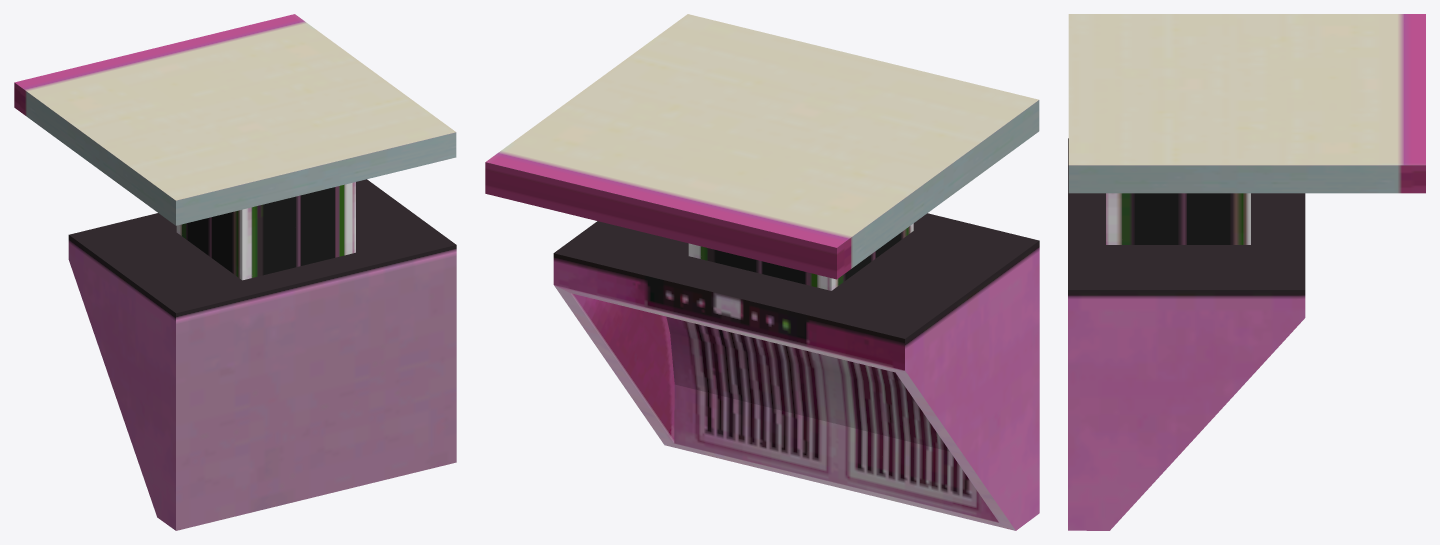
File: furni_0200523_01.FBX
3 renders of one model, left to right at view 1: azimuth 30°, elevation 25°; view 2: azimuth 150°, elevation 25°; view 3: azimuth 270°, elevation 25°, orthographic. The views are drawn at different scales.
Parts seen in each view (by area): view 1: furni_0200523_01; view 2: furni_0200523_01; view 3: furni_0200523_01.
Boxes of the visible parts, x1,y1,x2,y2 form: furni_0200523_01: (14, 14, 456, 530); furni_0200523_01: (485, 14, 1039, 530); furni_0200523_01: (1068, 14, 1425, 530).
Bounding box in the file's own units: 80.01 × 90.06 × 79.89.
Materials: 1 (1 with a texture image).
